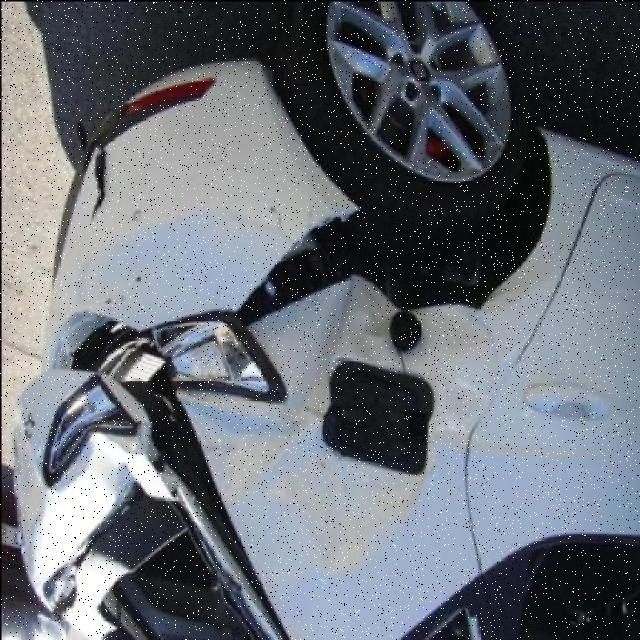damage: (176, 251, 533, 569), (14, 368, 201, 590), (95, 528, 279, 640), (91, 144, 109, 223)
